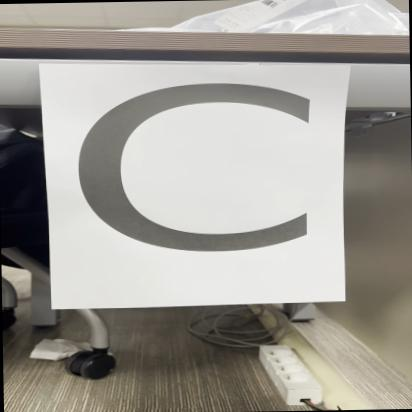seat: (46, 59, 344, 305)
